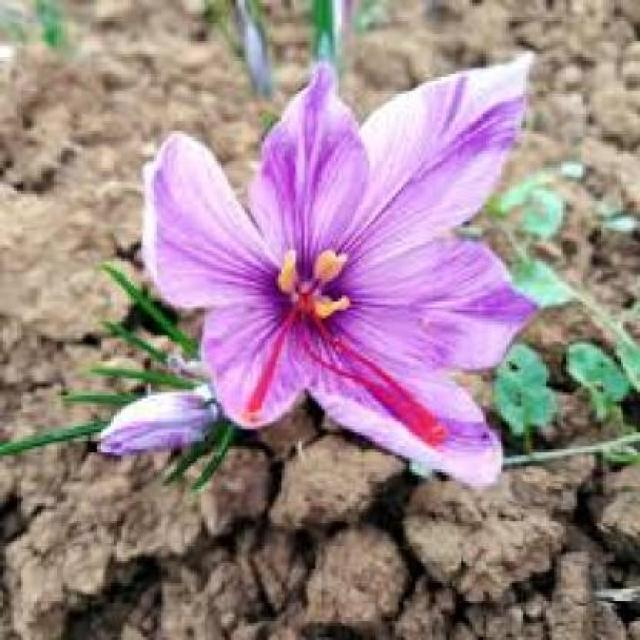saffron open: (143, 64, 535, 446)
